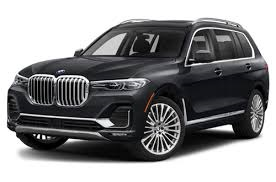bmw: (6, 11, 271, 163)
